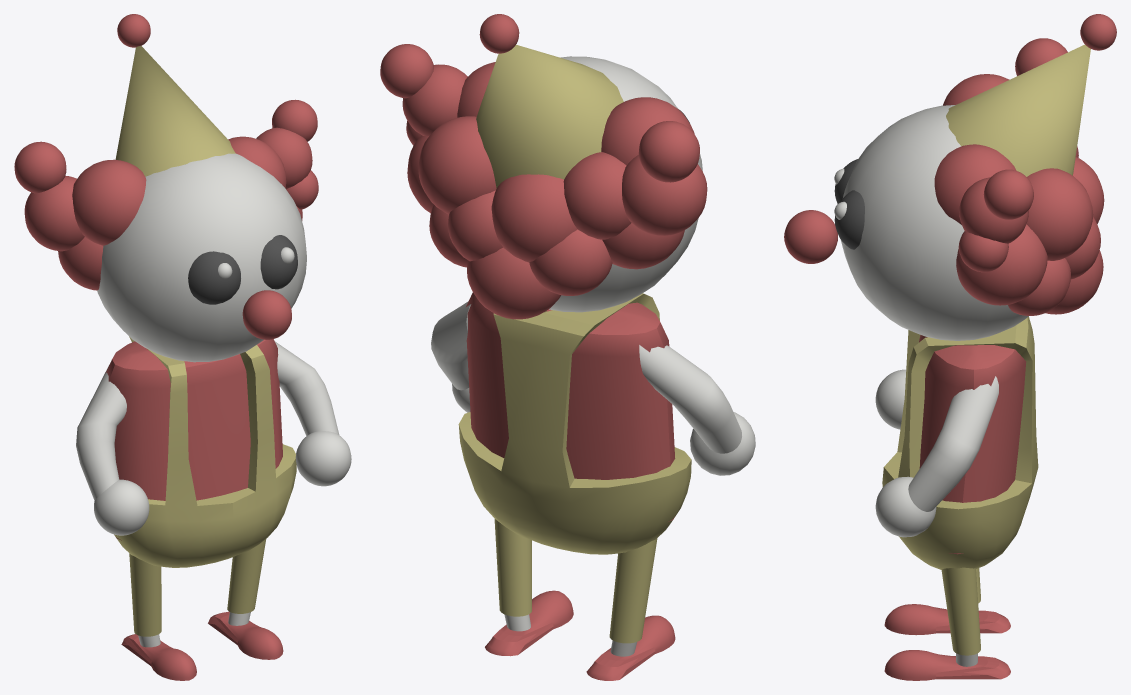
Rendered from CharacterClown.fbx.
3 renders of one model, left to right at view 1: azimuth 30°, elevation 25°; view 2: azimuth 150°, elevation 25°; view 3: azimuth 270°, elevation 25°, orthographic. The views are drawn at different scales.
Visible parts, largest first — view 1: Head, ClownChest, ArmR, ArmL, LegR, LegL, FootL, FootR; view 2: Head, ClownChest, ArmR, LegR, LegL, ArmL, FootL, FootR; view 3: Head, ClownChest, ArmL, LegL, FootL, FootR, ArmR.
Boxes of the visible parts, x1,y1,x2,y2 form: Head: (14,14,318,362); ClownChest: (105,336,296,567); ArmR: (76,366,149,535); ArmL: (275,341,351,486); LegR: (129,553,161,647); LegL: (227,539,266,625); FootL: (208,611,283,659); FootR: (121,634,196,680); Head: (380,14,707,319); ClownChest: (458,292,691,554); ArmR: (639,345,755,475); LegR: (609,538,657,656); LegL: (494,519,531,631); ArmL: (431,301,470,412); FootL: (485,590,573,656); FootR: (586,615,675,680); Head: (784,14,1116,340); ClownChest: (882,316,1038,569); ArmL: (875,376,998,537); LegL: (941,567,980,666); FootL: (884,650,1010,680); FootR: (884,604,1010,635); ArmR: (875,369,906,429).
Bounding box in the file's own units: 0.8954 × 1.77 × 0.8446.
